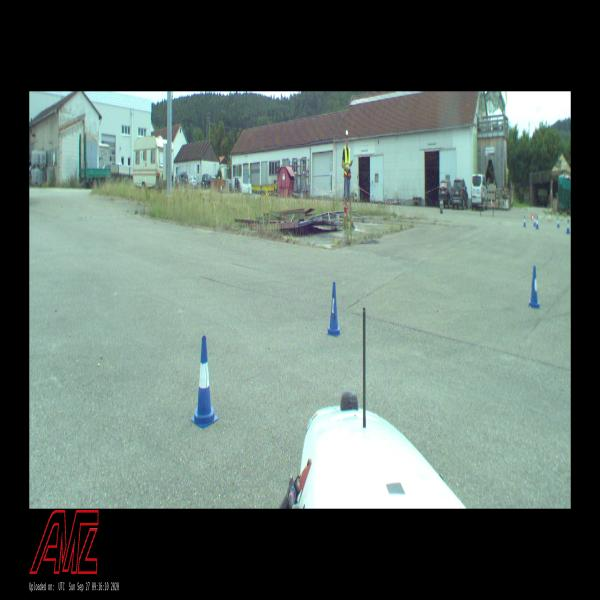blue_cone: (191, 335, 218, 429), (326, 282, 341, 336), (528, 266, 540, 309), (566, 219, 570, 234), (523, 215, 526, 227), (557, 217, 560, 228), (536, 216, 538, 229), (534, 215, 536, 226)
